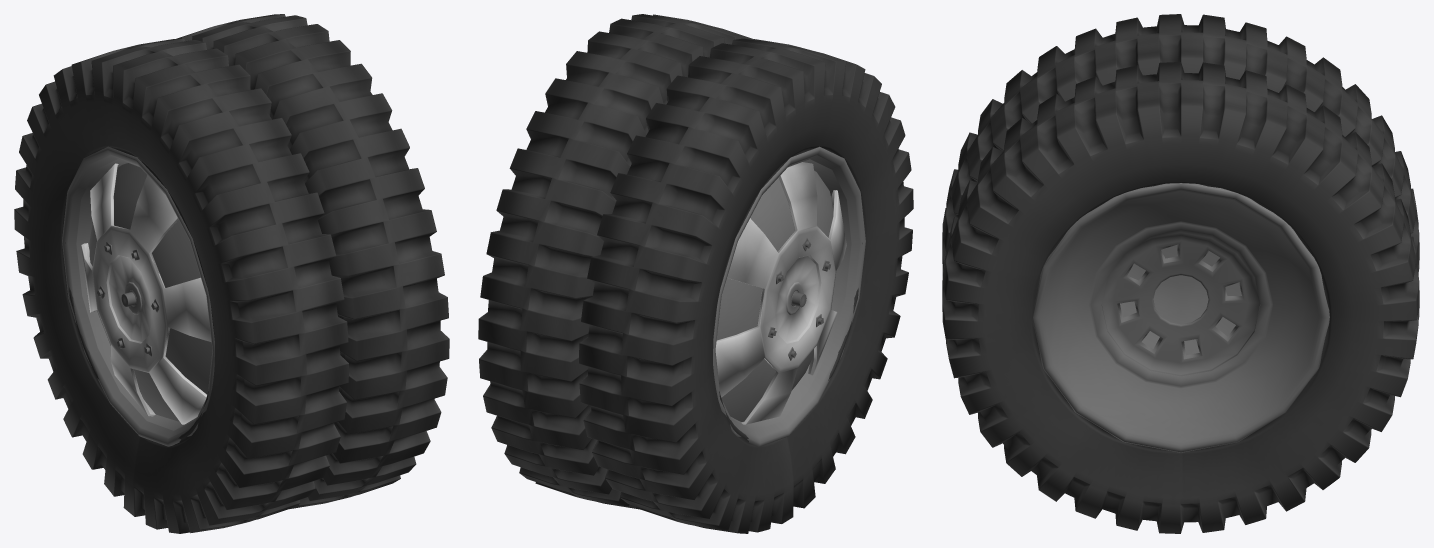
The model's file is OT_wheel_rear.obj.
The picture shows the model from 3 angles, left to right: view 1: azimuth 30°, elevation 25°; view 2: azimuth 150°, elevation 25°; view 3: azimuth 270°, elevation 25°; orthographic projection. The views are drawn at different scales.
Size of the model in its own units: 0.4834 by 0.9896 by 0.9895.
Materials: 1 (1 with a texture image).
